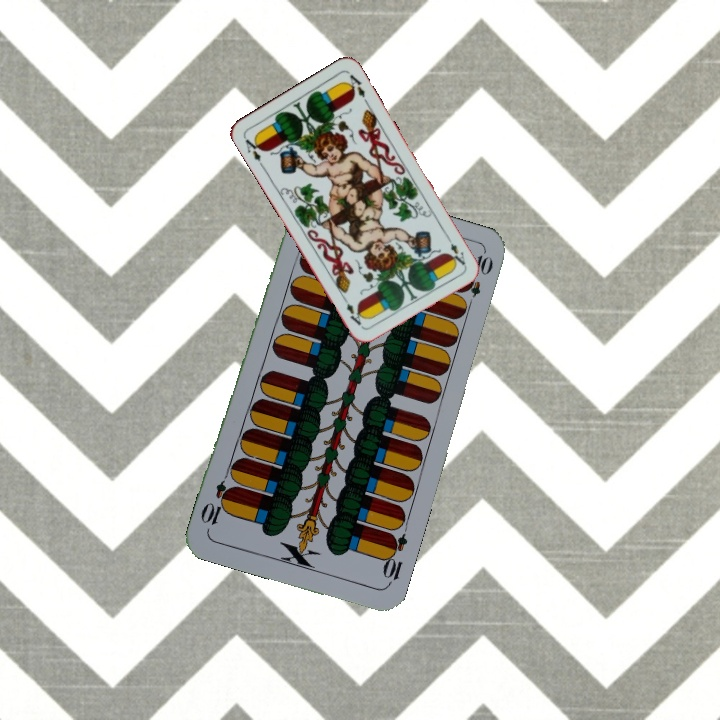E10: (378, 529, 410, 588)
EA: (442, 231, 468, 268), (241, 133, 266, 170)
